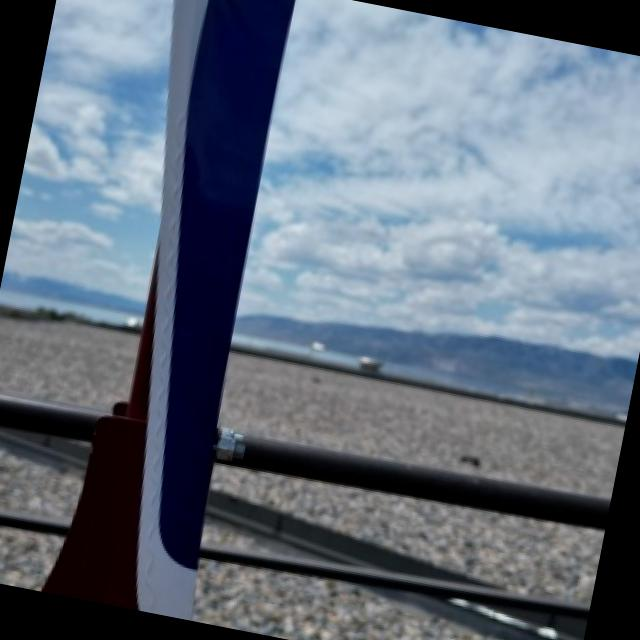healthy: (238, 0, 640, 410), (44, 0, 291, 618)
